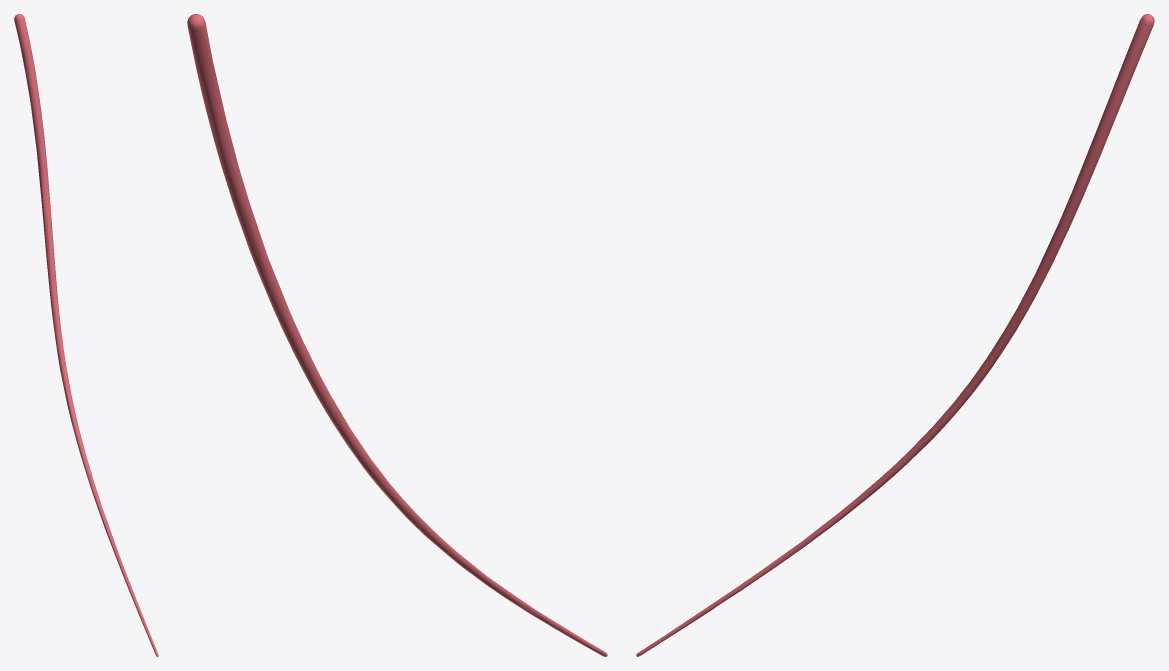
Rendered from fma22858_fj2365.glb.
The picture shows the model from 3 angles, left to right: view 1: azimuth 30°, elevation 25°; view 2: azimuth 150°, elevation 25°; view 3: azimuth 270°, elevation 25°; orthographic projection. The views are drawn at different scales.
Visible parts, largest first — view 1: FMA22858_FJ2365; view 2: FMA22858_FJ2365; view 3: FMA22858_FJ2365.
Boxes of the visible parts, x1,y1,x2,y2 form: FMA22858_FJ2365: [14, 14, 158, 656]; FMA22858_FJ2365: [187, 14, 607, 656]; FMA22858_FJ2365: [636, 14, 1154, 656].
Bounding box in the file's own units: 0.00883 × 0.0751 × 0.0523.
